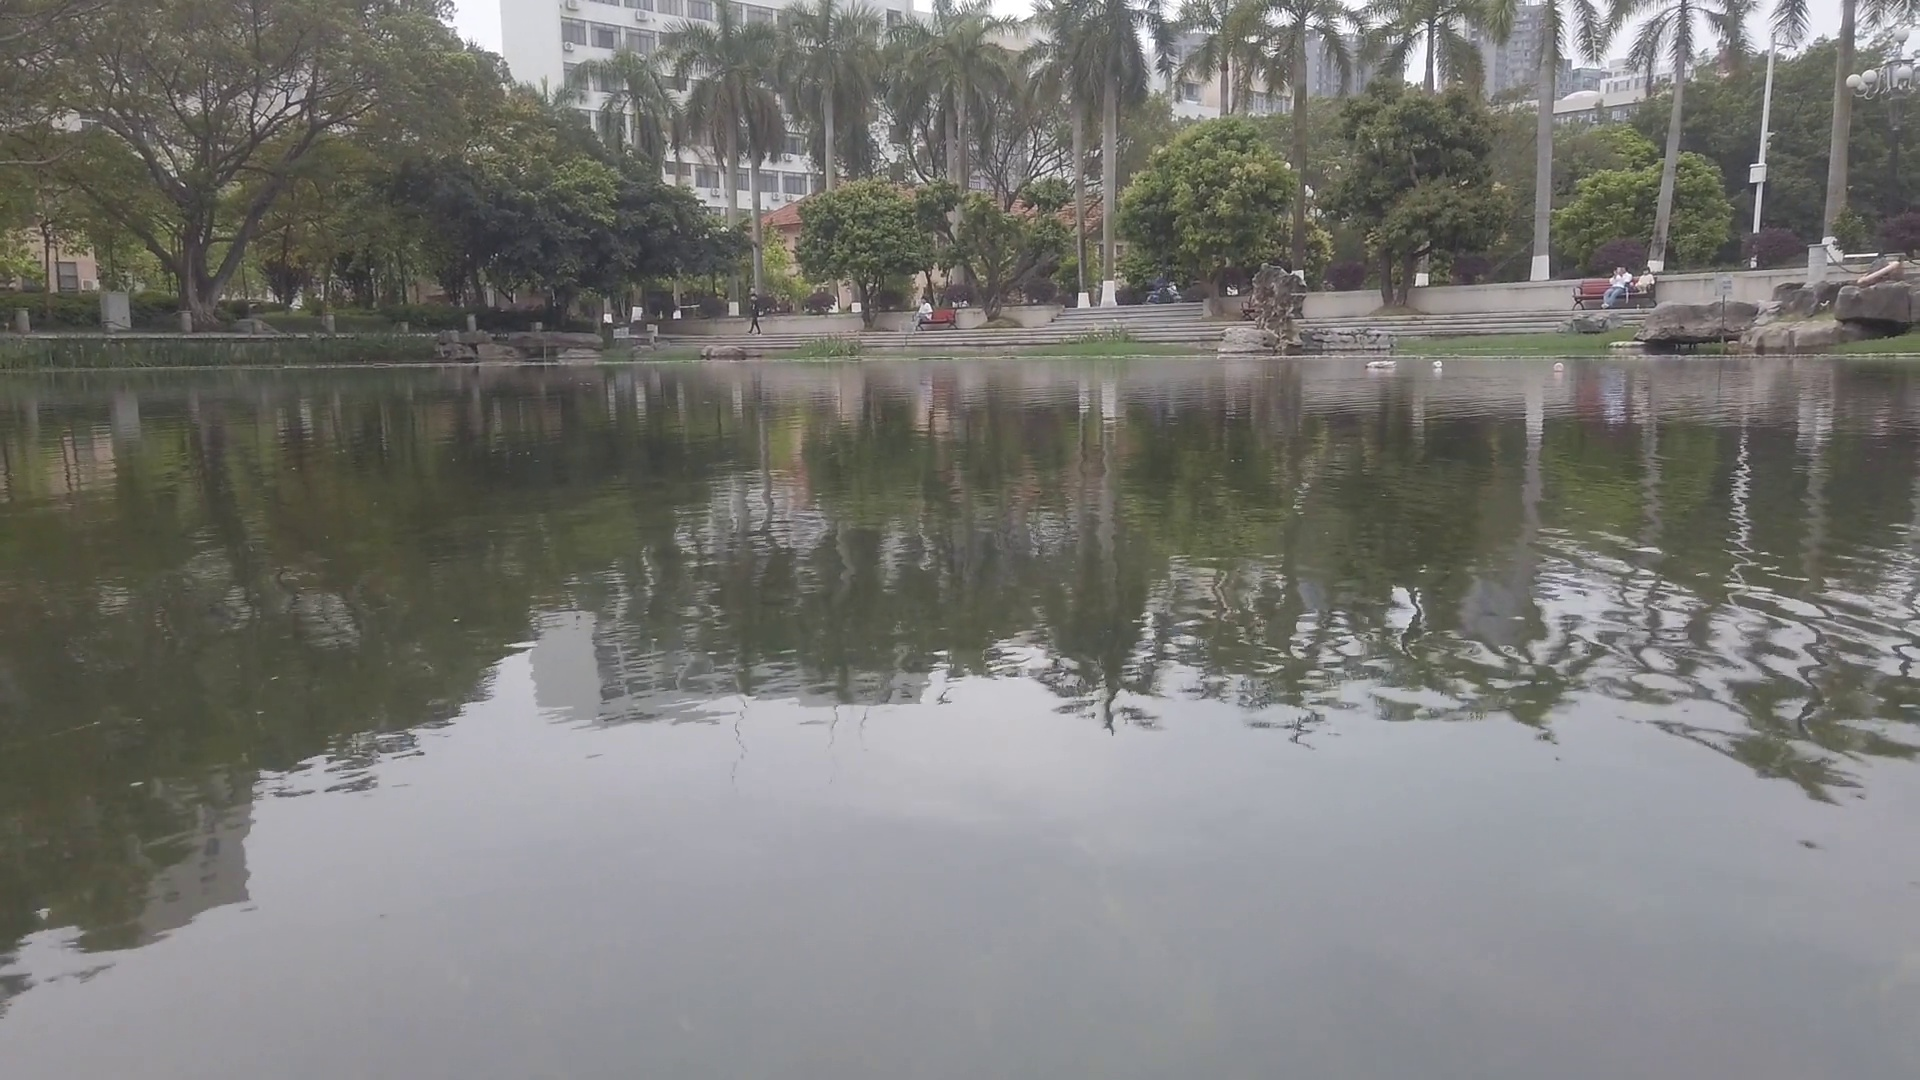bottle: (1364, 359, 1399, 371), (1431, 359, 1445, 368), (1552, 363, 1564, 371)
